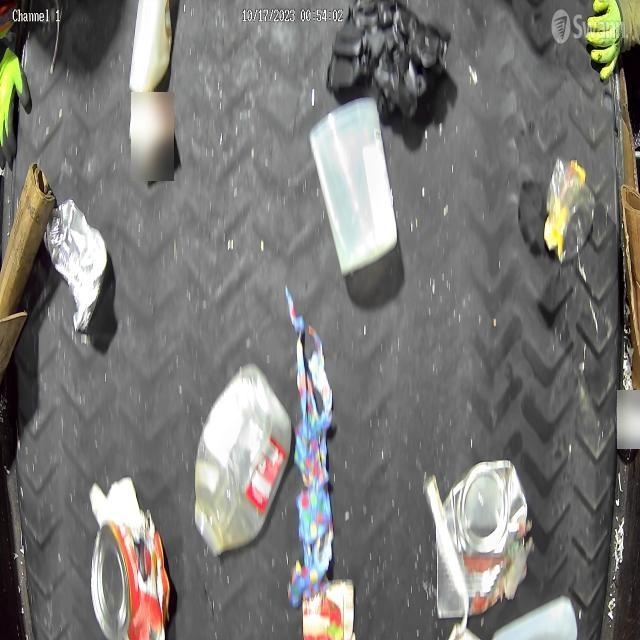non_white_jug: (195, 363, 292, 554)
